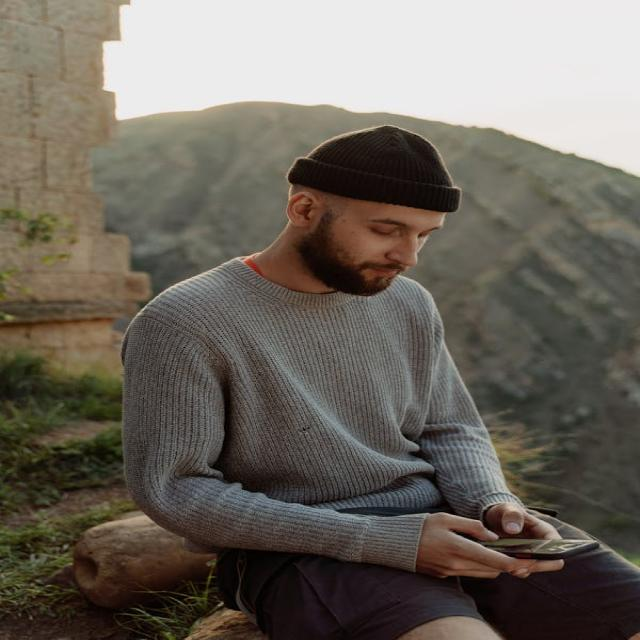Real human 2: (100, 97, 640, 640)
